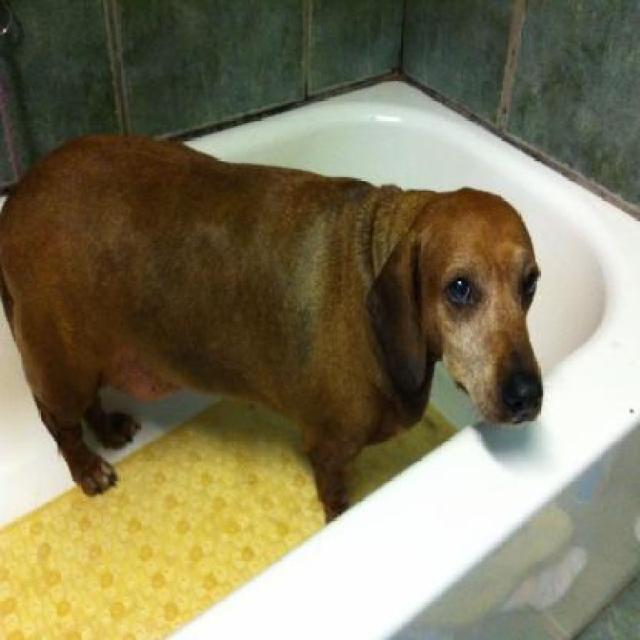Dog: (2, 120, 549, 525)
